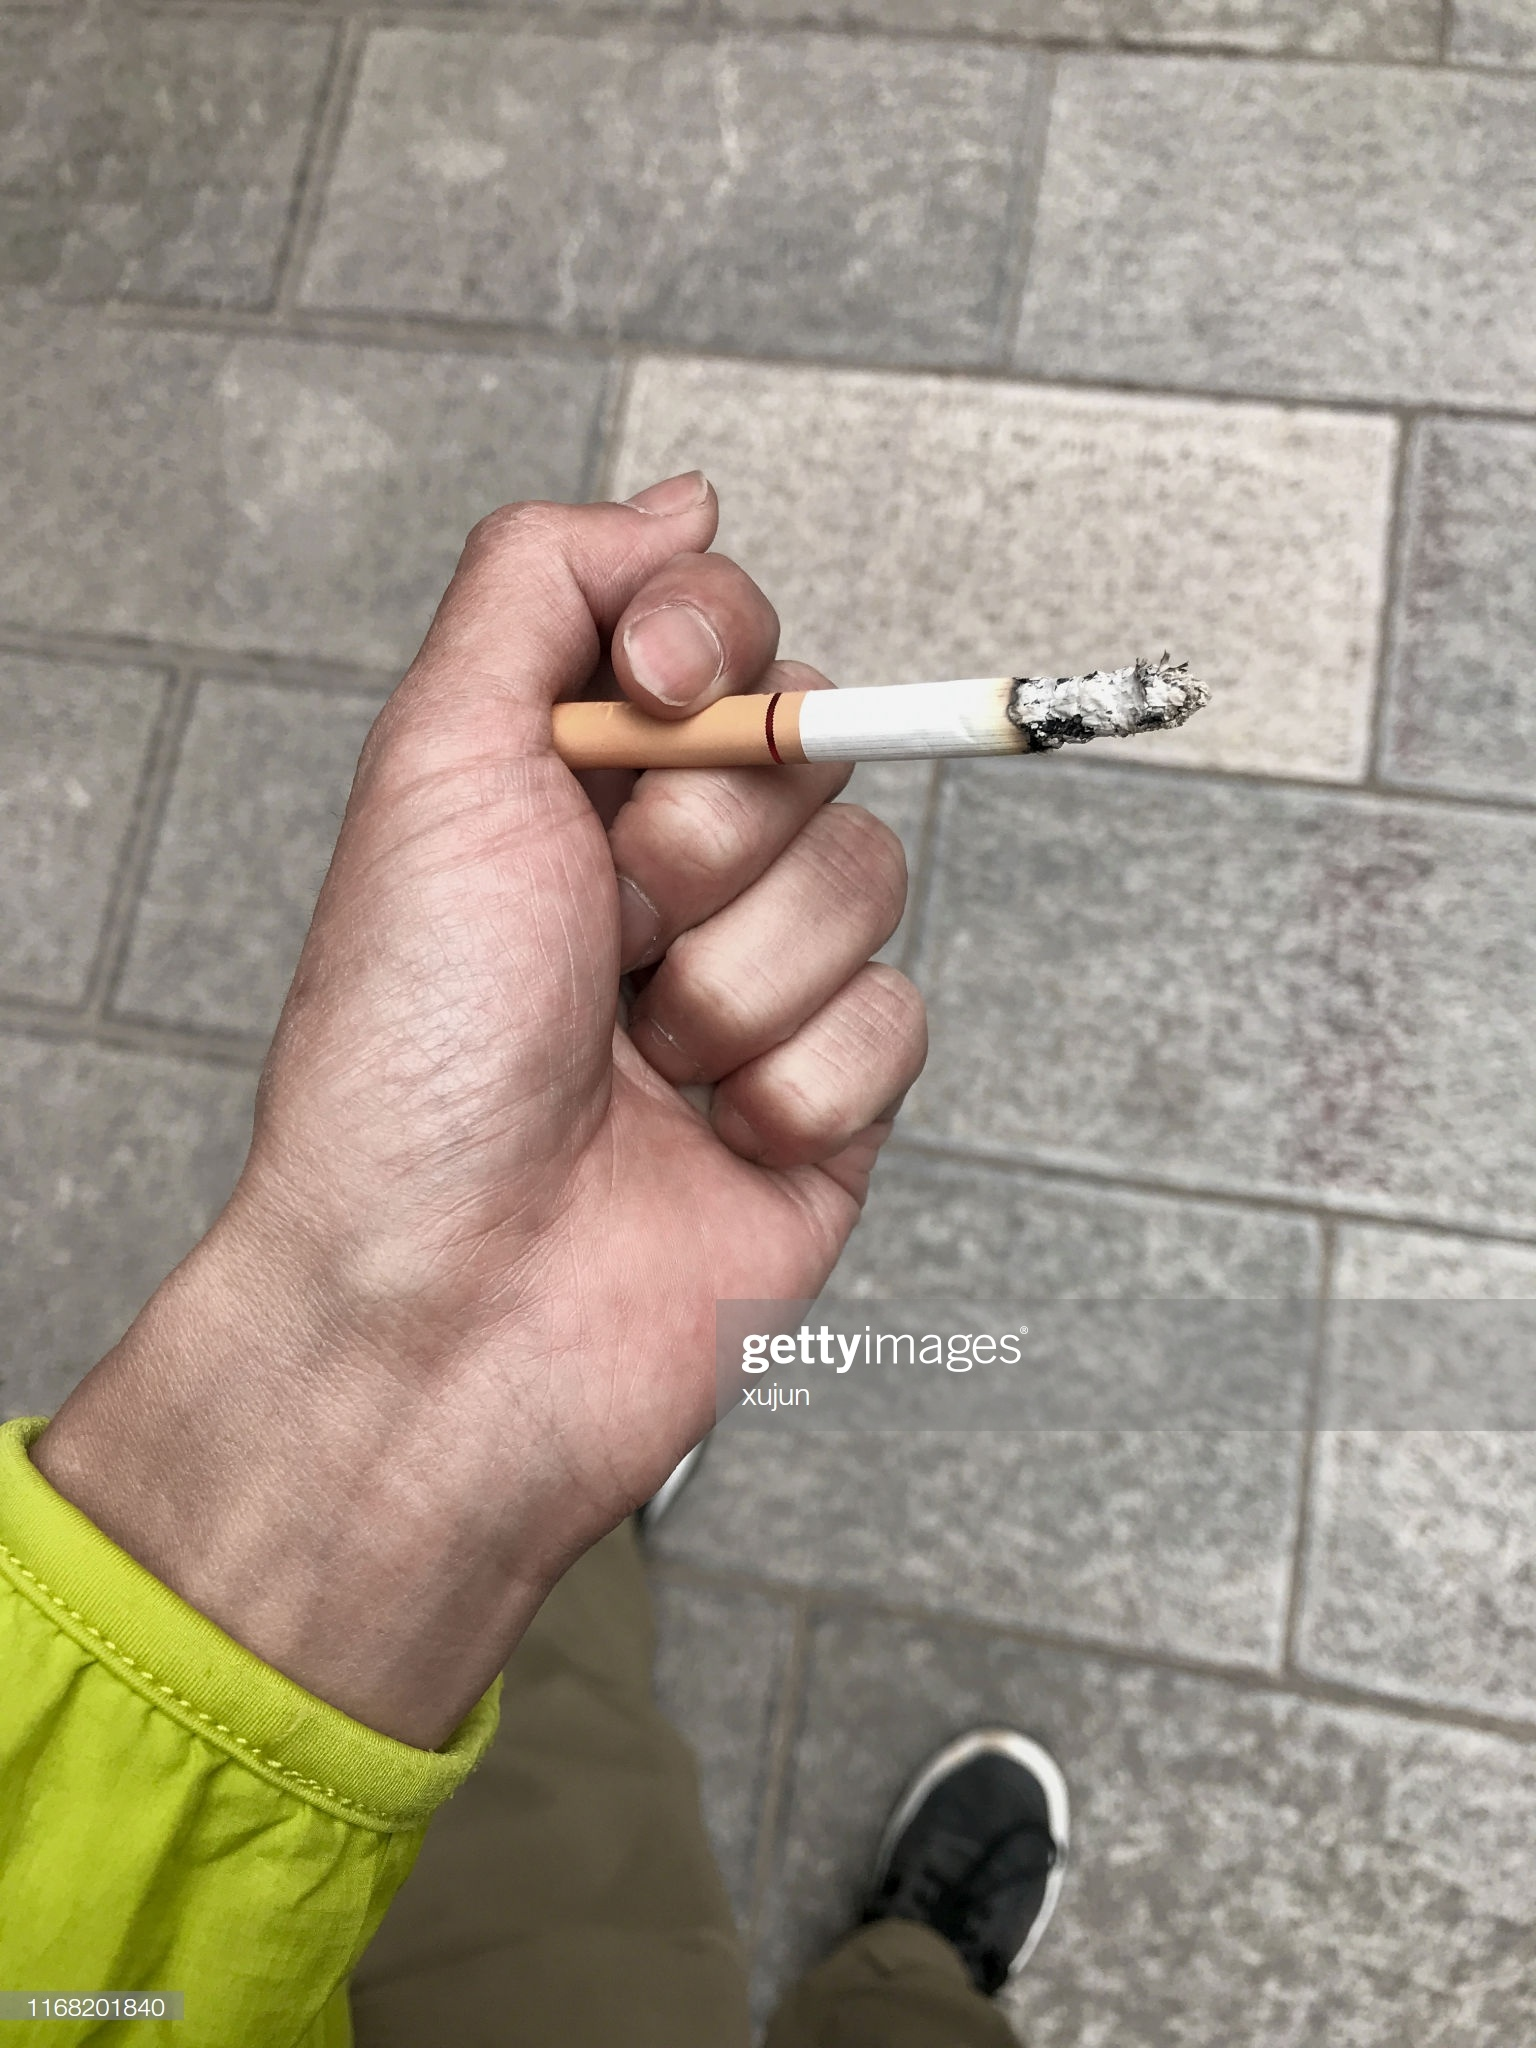sigaretta: (552, 672, 1213, 751)
